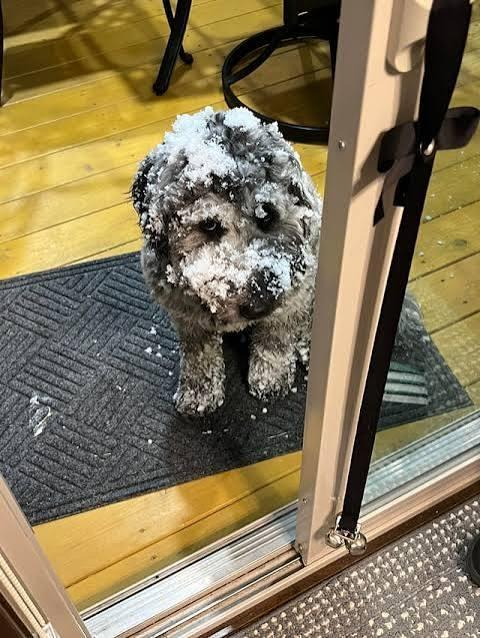adult_dog: (132, 106, 322, 422)
